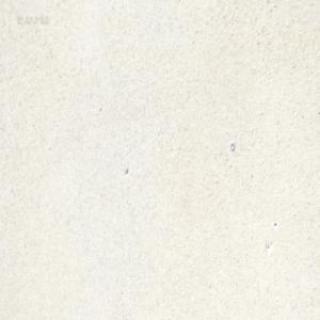Washertrack_idkeyframe: (229, 140, 234, 150)
